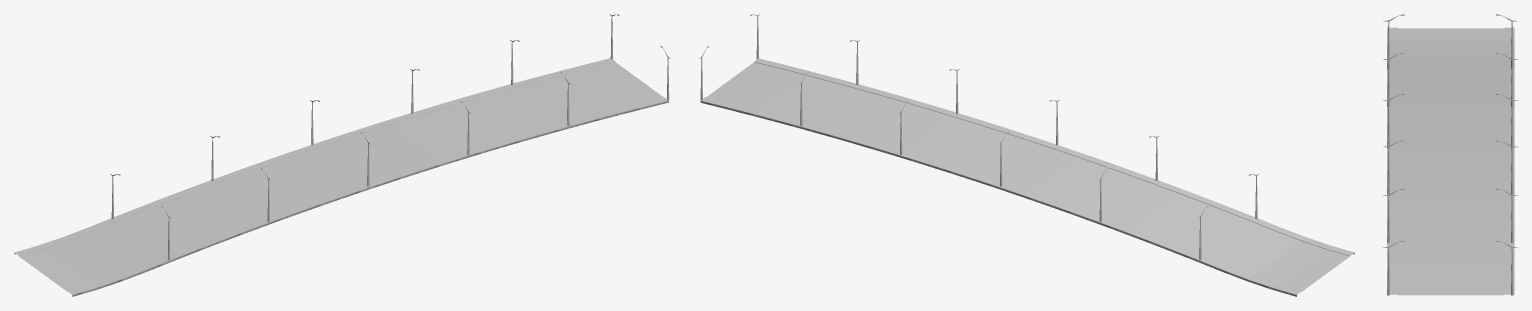
Rendered from Big_Road_down_10.FBX.
3 views of the same model, side by side, from view 1: azimuth 30°, elevation 25°; view 2: azimuth 150°, elevation 25°; view 3: azimuth 270°, elevation 25° (orthographic). The views are drawn at different scales.
Parts seen in each view (by area): view 1: Big_Road_down_10, City087; view 2: Big_Road_down_10, City087; view 3: Big_Road_down_10, City087.
Part boxes in pixels (x1,y1,x2,y2): Big_Road_down_10: [14, 58, 668, 296]; City087: [110, 14, 670, 260]; Big_Road_down_10: [700, 58, 1354, 296]; City087: [699, 14, 1258, 260]; Big_Road_down_10: [1387, 27, 1514, 295]; City087: [1383, 14, 1517, 295].
Bounding box in the file's own units: 13504 × 2158 × 2394.
